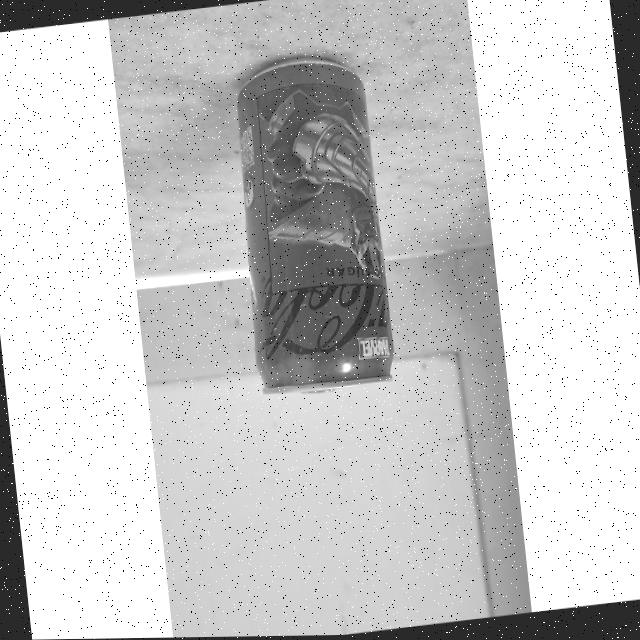Coca Cola Zero: (211, 41, 409, 405)
